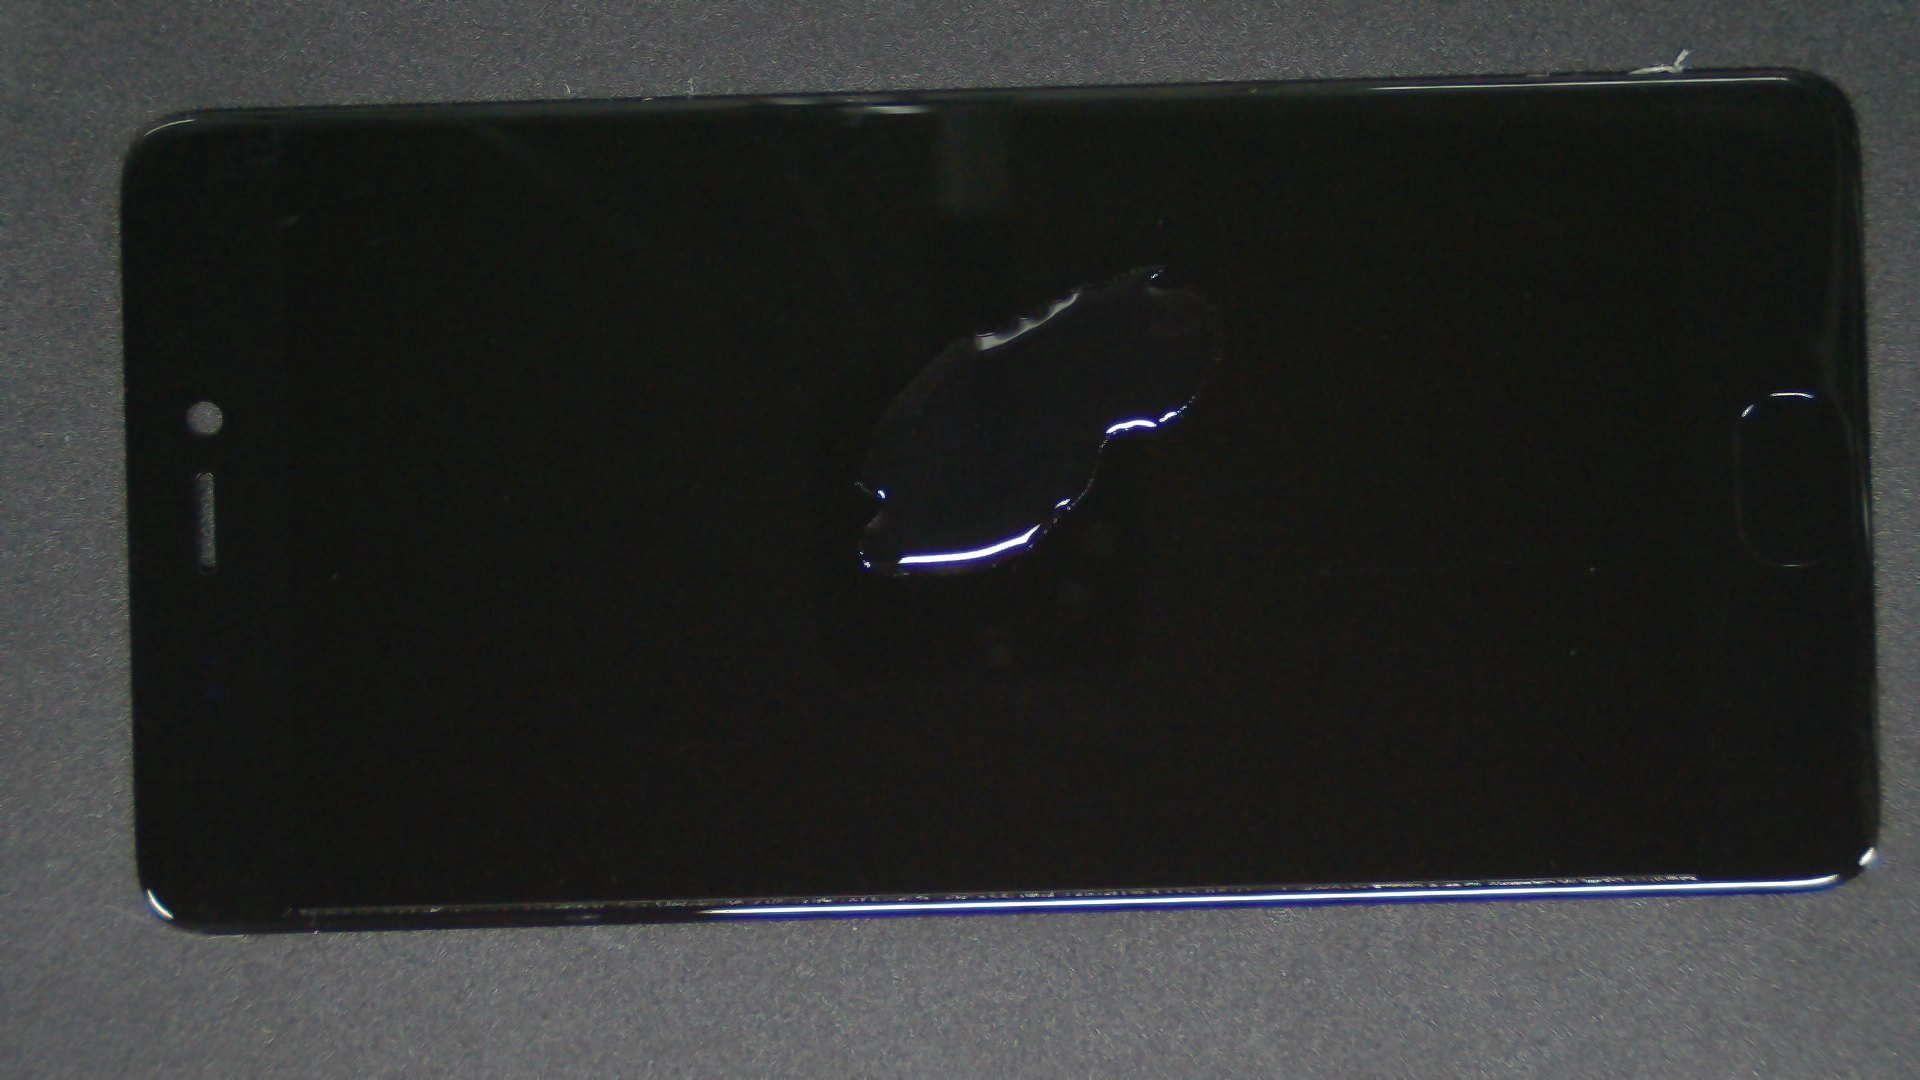oil: (578, 132, 1729, 400)
